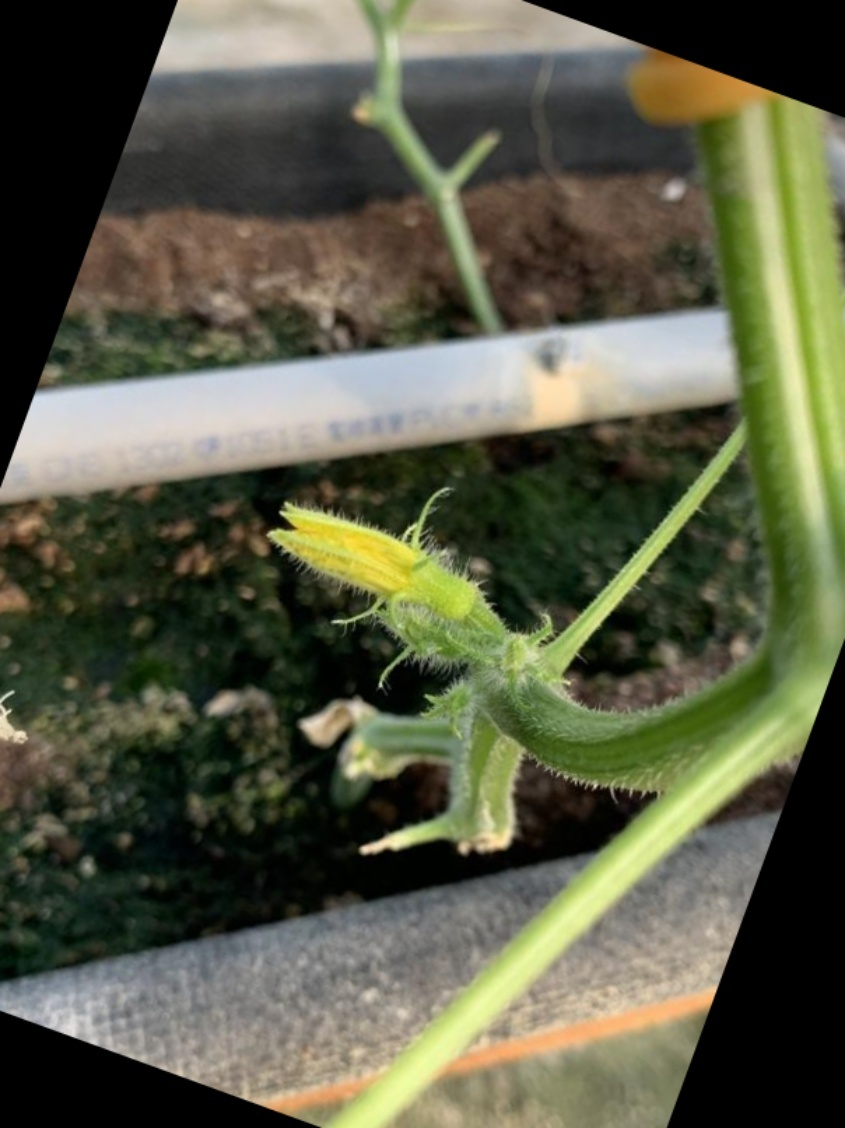bud: (263, 499, 508, 625)
